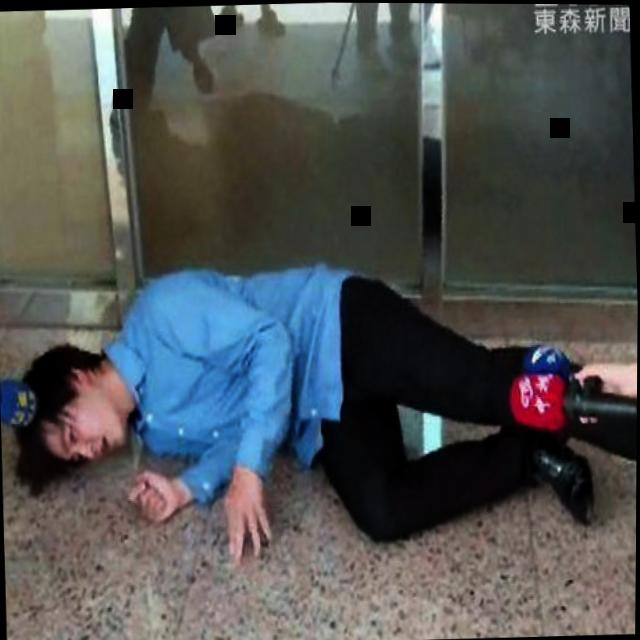Fall-Detected: (0, 208, 632, 582)
